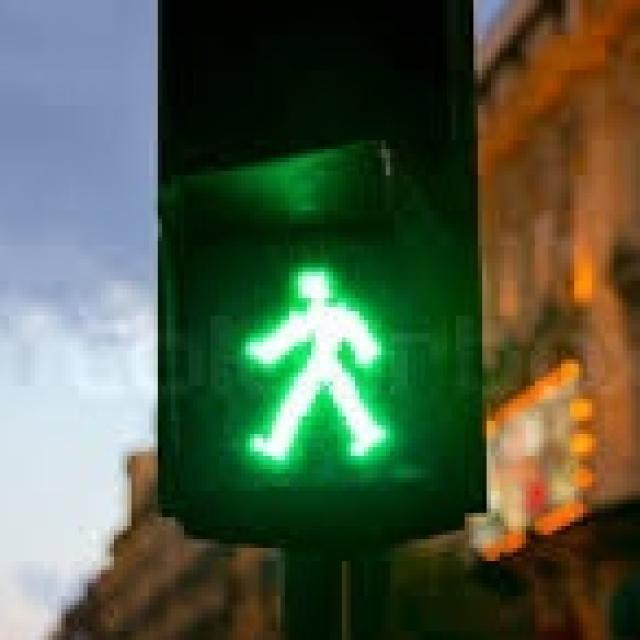geen-crossing: (197, 228, 425, 487)
